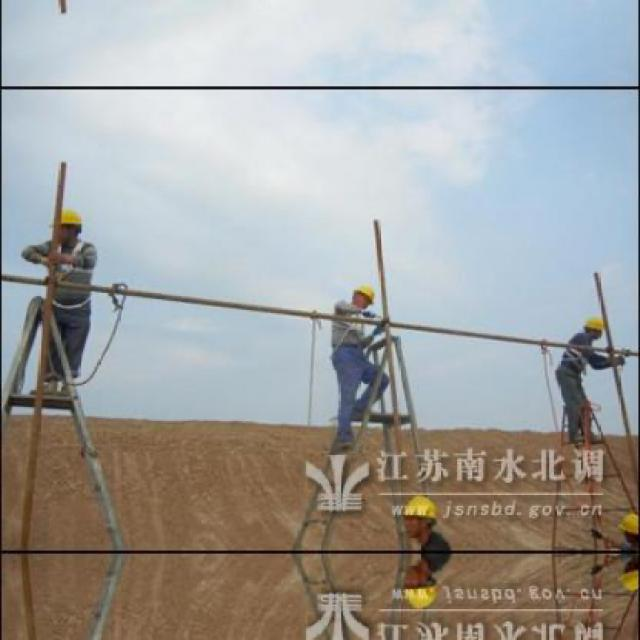helmet: (398, 494, 436, 536), (398, 568, 436, 610), (48, 206, 82, 244), (618, 511, 637, 542), (618, 563, 637, 594), (583, 313, 606, 338), (351, 284, 375, 305)
